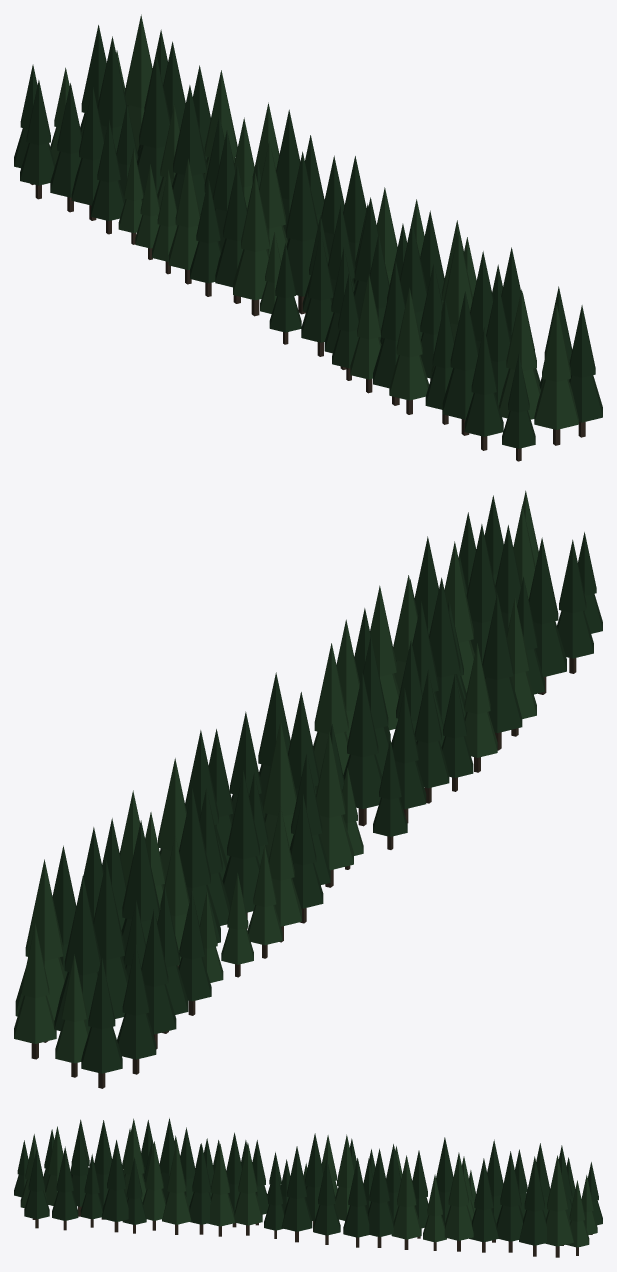
The model's file is forest_edge_22.glb.
3 views of the same model, one above another, from view 1: azimuth 30°, elevation 25°; view 2: azimuth 150°, elevation 25°; view 3: azimuth 270°, elevation 25° (orthographic). The views are drawn at different scales.
Visible parts, largest first — view 1: chunk_0_0; view 2: chunk_0_0; view 3: chunk_0_0.
Part boxes in pixels (x1,y1,x2,y2): chunk_0_0: (14,14,602,461); chunk_0_0: (14,490,602,1088); chunk_0_0: (14,1118,602,1257).
Bounding box in the file's own units: 24.89 × 34.68 × 141.
